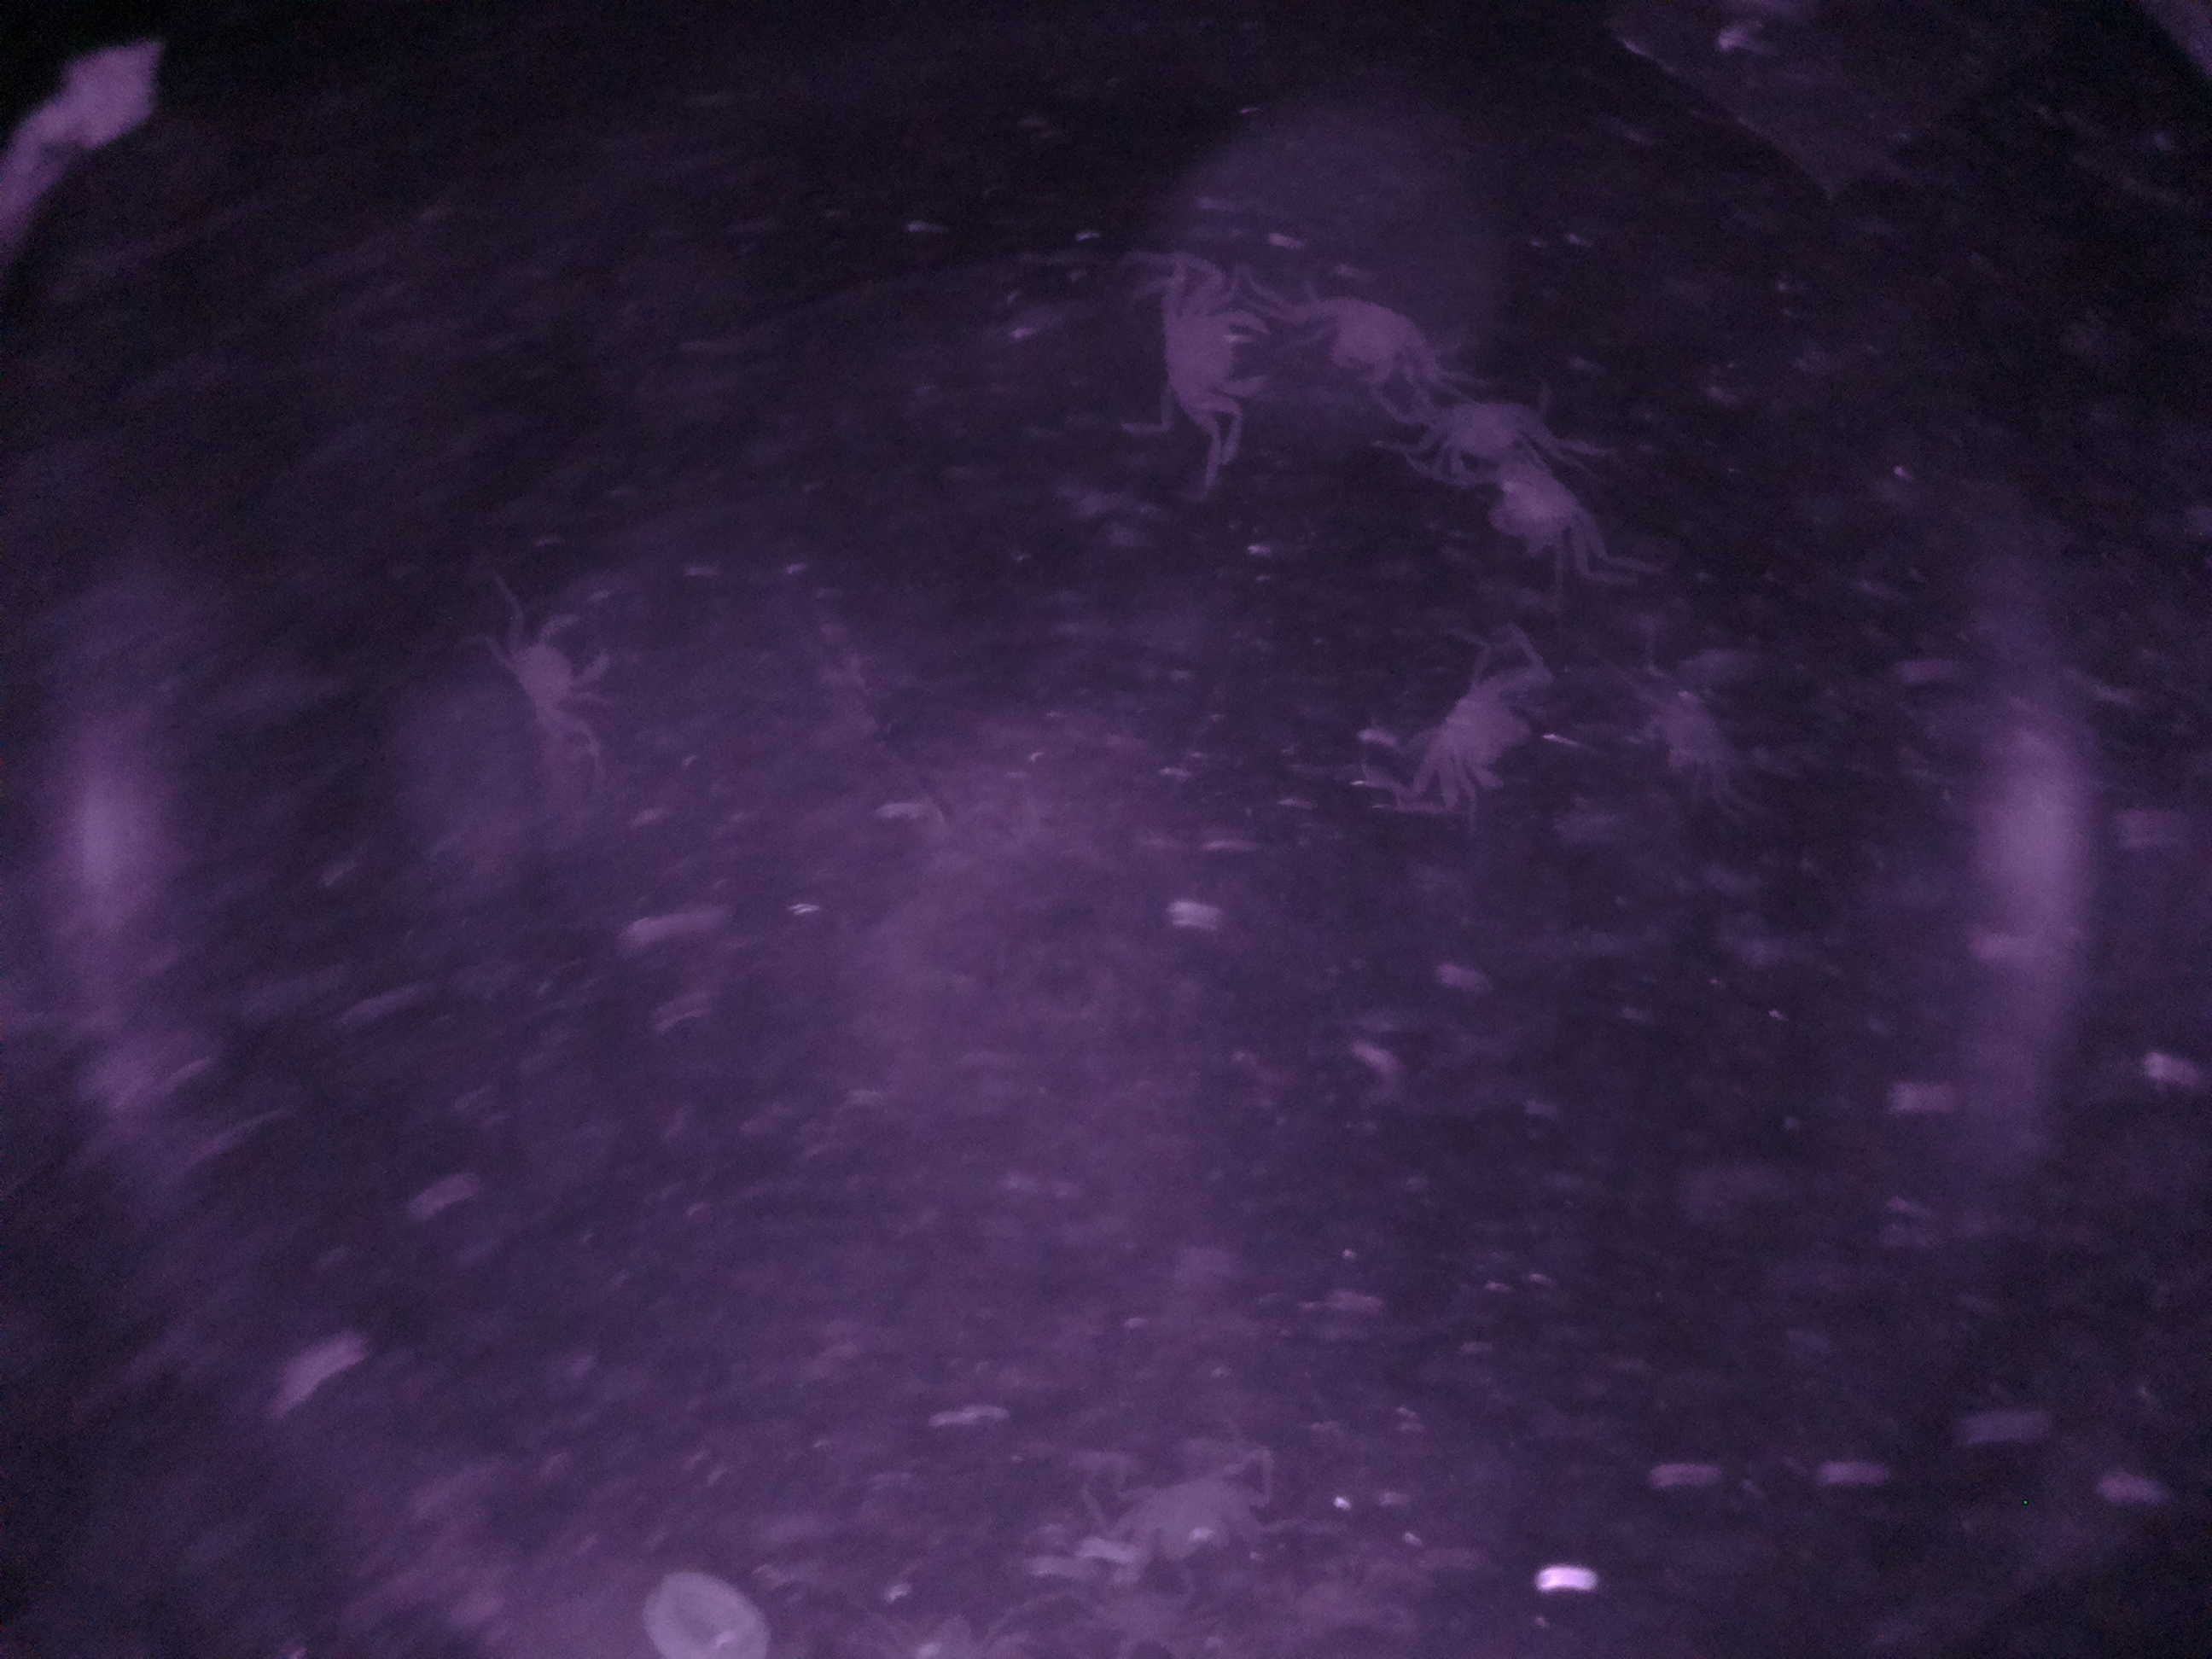Crab: (1369, 612, 1552, 821), (1127, 246, 1277, 493)
